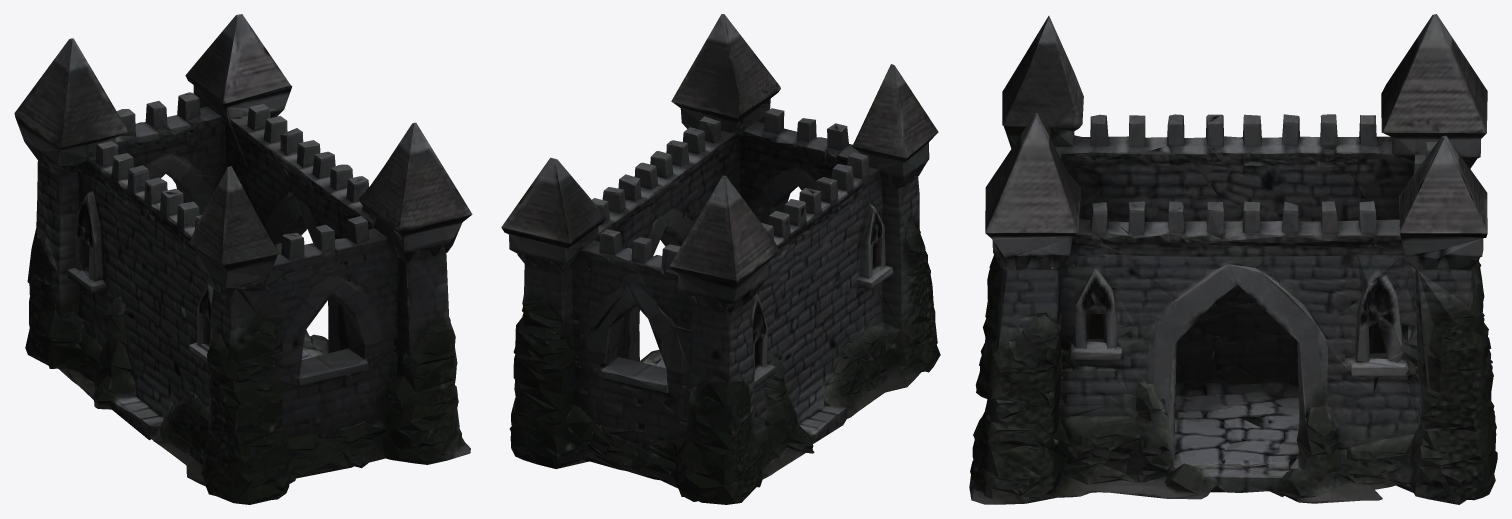
Rendered from basalt_small_01.glb.
3 renders of one model, left to right at view 1: azimuth 30°, elevation 25°; view 2: azimuth 150°, elevation 25°; view 3: azimuth 270°, elevation 25°, orthographic. The views are drawn at different scales.
Visible parts, largest first — view 1: geometry_0; view 2: geometry_0; view 3: geometry_0.
Part boxes in pixels (x1,y1,x2,y2): geometry_0: (14, 14, 472, 504); geometry_0: (501, 14, 940, 504); geometry_0: (969, 14, 1497, 504).
Size of the model in its own units: 0.6253 by 0.7941 by 0.9987.
Materials: 1 (1 with a texture image).
